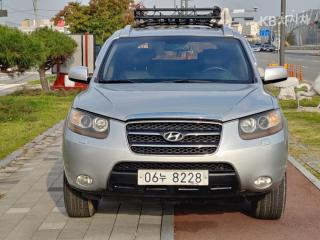0: (144, 171, 151, 183)
2: (180, 172, 187, 184), (188, 172, 195, 184)
6: (151, 172, 159, 183)
8: (195, 171, 203, 184), (171, 172, 179, 183)
plate: (132, 166, 214, 191)
누: (159, 171, 168, 183)
